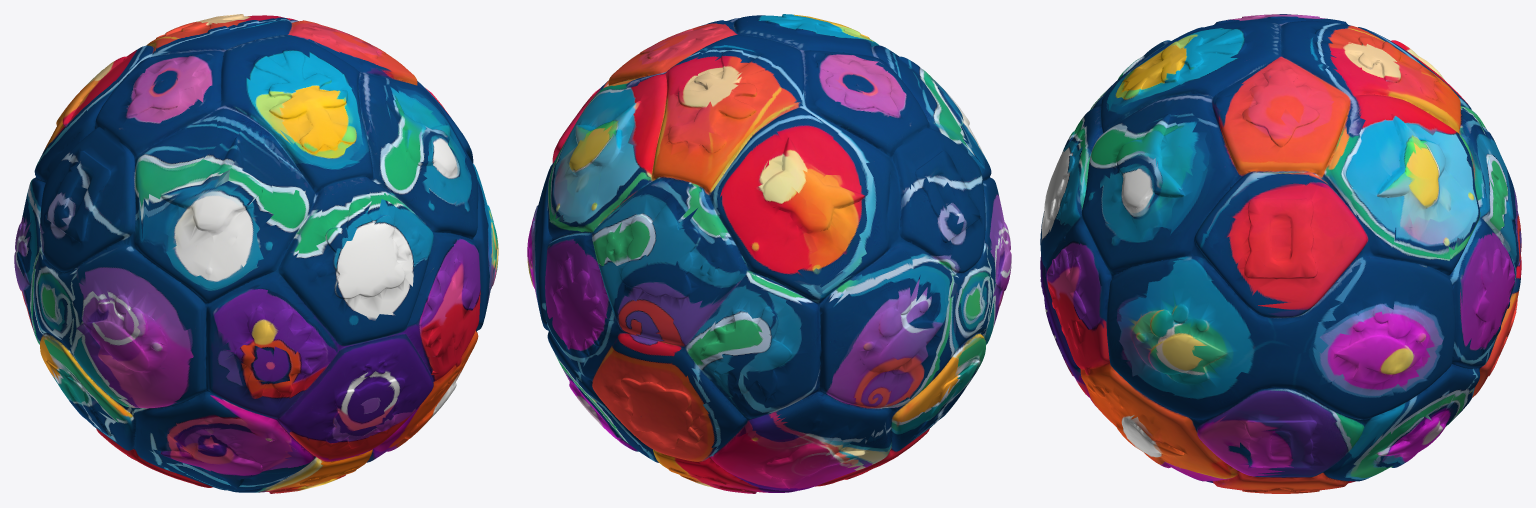
The model's file is fantasy-soccer-ball.glb.
The picture shows the model from 3 angles, left to right: view 1: azimuth 30°, elevation 25°; view 2: azimuth 150°, elevation 25°; view 3: azimuth 270°, elevation 25°; orthographic projection.
Visible parts, largest first — view 1: FantasySoccerBall; view 2: FantasySoccerBall; view 3: FantasySoccerBall.
Part boxes in pixels (x1,y1,x2,y2): FantasySoccerBall: [14, 14, 498, 493]; FantasySoccerBall: [527, 14, 1011, 493]; FantasySoccerBall: [1040, 14, 1521, 493].
Size of the model in its own units: 0.3398 by 0.3398 by 0.34.
1 material, 1 textured.
